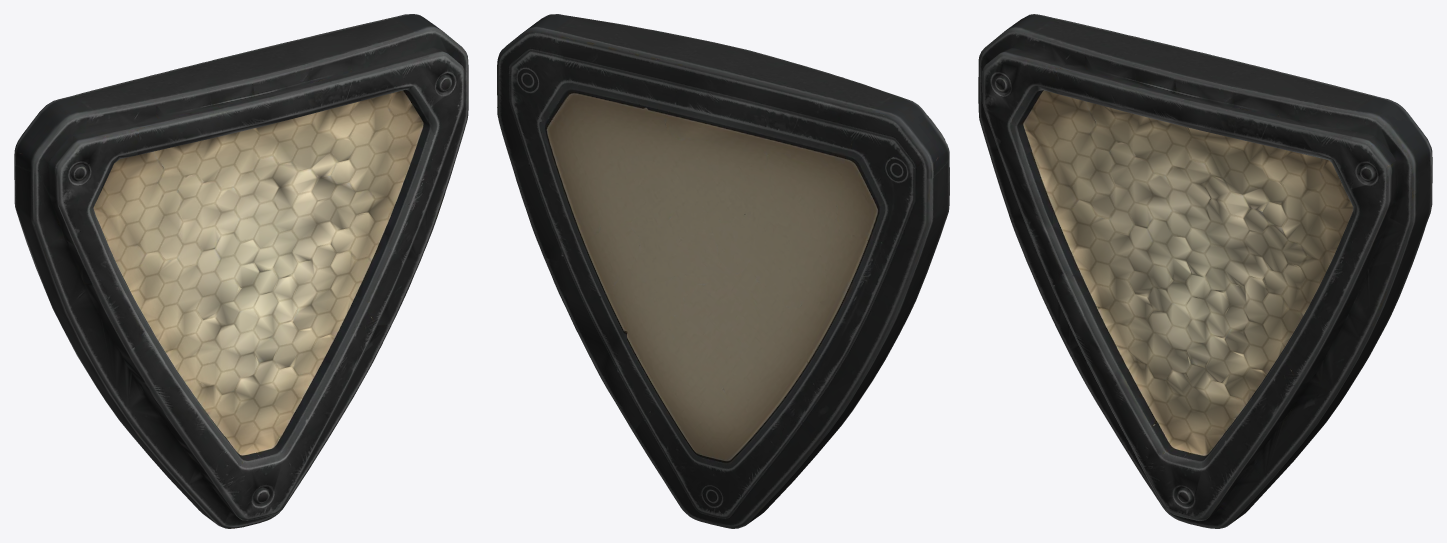
3 views of the same model, side by side, from view 1: azimuth 30°, elevation 25°; view 2: azimuth 150°, elevation 25°; view 3: azimuth 330°, elevation 25° (orthographic).
Size of the model in its own units: 1.9 by 1.9 by 0.2835.
1 material, 1 textured.
